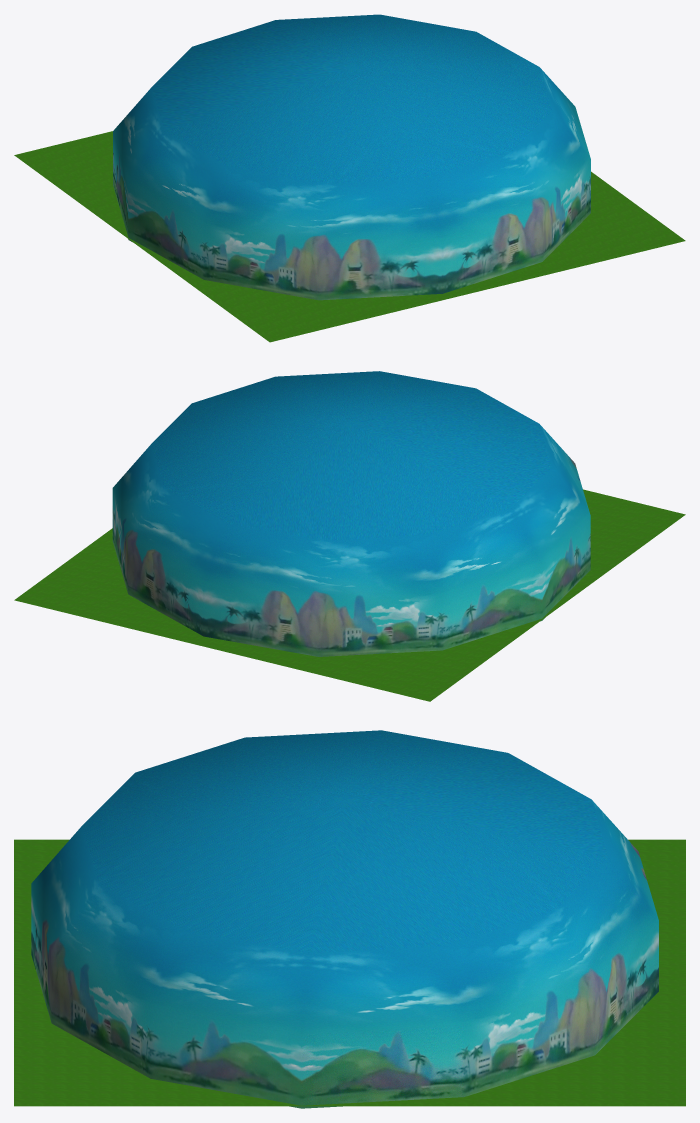
File: chuwudaohui.FBX
The picture shows the model from 3 angles, top to bottom: view 1: azimuth 30°, elevation 25°; view 2: azimuth 150°, elevation 25°; view 3: azimuth 270°, elevation 25°; orthographic projection. The views are drawn at different scales.
Visible parts, largest first — view 1: Object060; view 2: Object060; view 3: Object060.
Boxes of the visible parts, box(x1,y1,x2,y2) form: Object060: box(14, 14, 685, 342); Object060: box(14, 371, 685, 701); Object060: box(14, 730, 685, 1108).
Bounding box in the file's own units: 99893 × 30928 × 106390.
